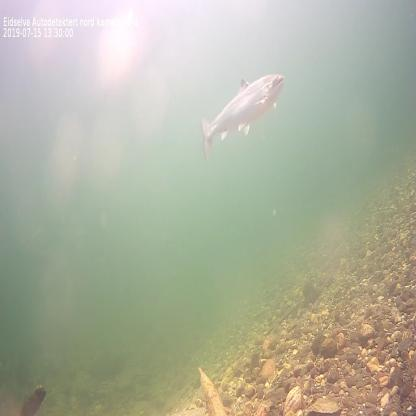salmon: (199, 68, 287, 163)
